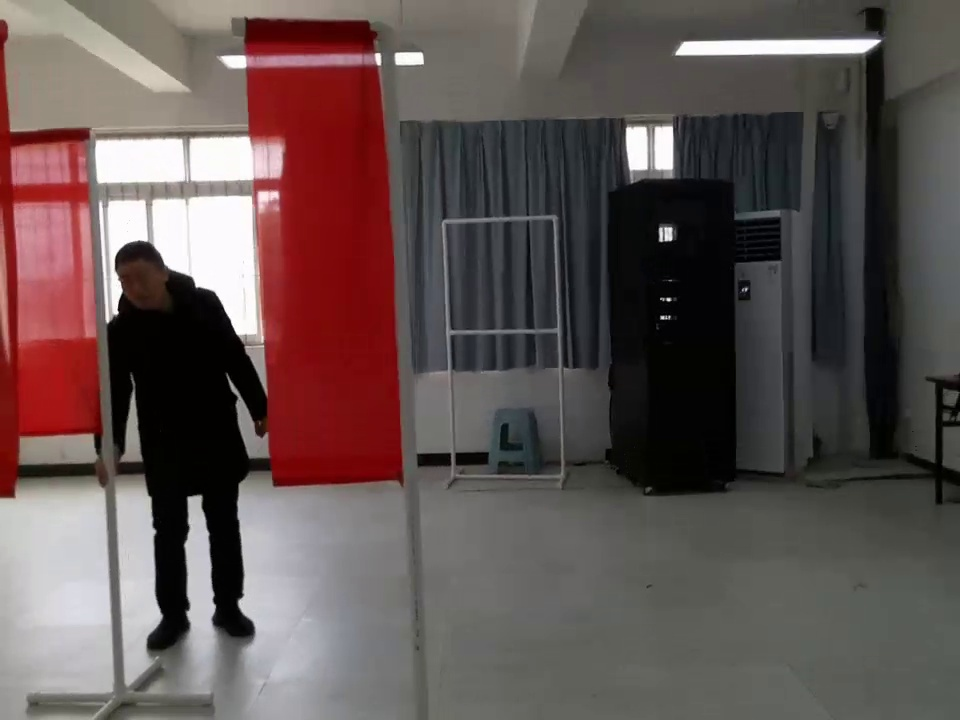qi: (237, 15, 419, 511), (5, 127, 115, 459)
